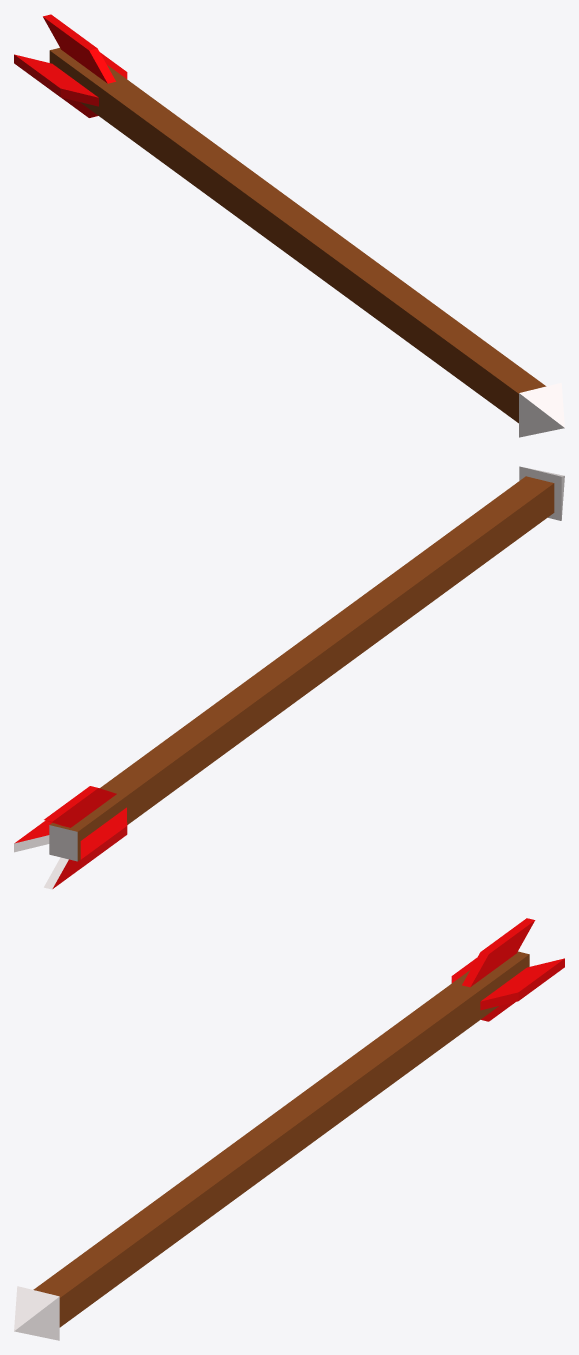
File: arrow.obj
3 renders of one model, top to bottom at view 1: azimuth 30°, elevation 25°; view 2: azimuth 150°, elevation 25°; view 3: azimuth 330°, elevation 25°, orthographic.
Visible parts, largest first — view 1: 立方体.002_立方体.006; view 2: 立方体.002_立方体.006; view 3: 立方体.002_立方体.006.
Boxes of the visible parts, x1=… form: 立方体.002_立方体.006: x1=14, y1=14, x2=564, y2=437; 立方体.002_立方体.006: x1=14, y1=466, x2=564, y2=889; 立方体.002_立方体.006: x1=14, y1=918, x2=564, y2=1340.
Size of the model in its own units: 0.4711 by 0.4564 by 6.33.
